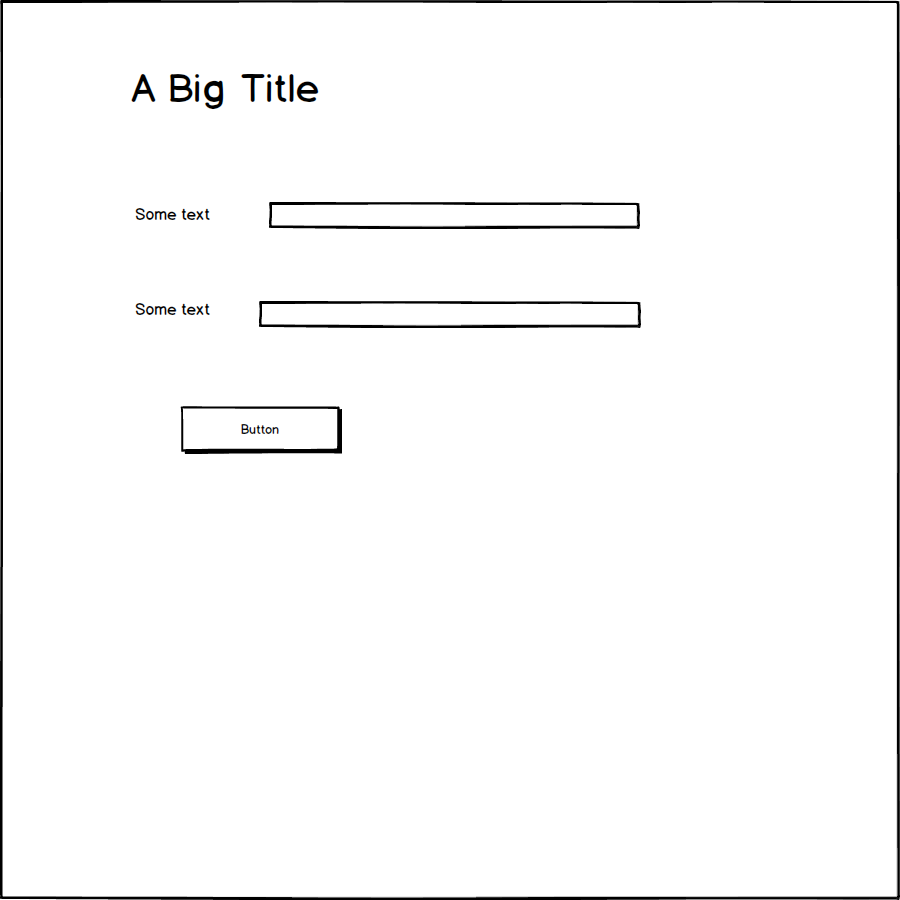button: (175, 399, 349, 462)
h1: (123, 59, 330, 121)
input: (255, 292, 648, 336), (260, 195, 649, 238)
label: (128, 295, 219, 325), (128, 199, 220, 228)
